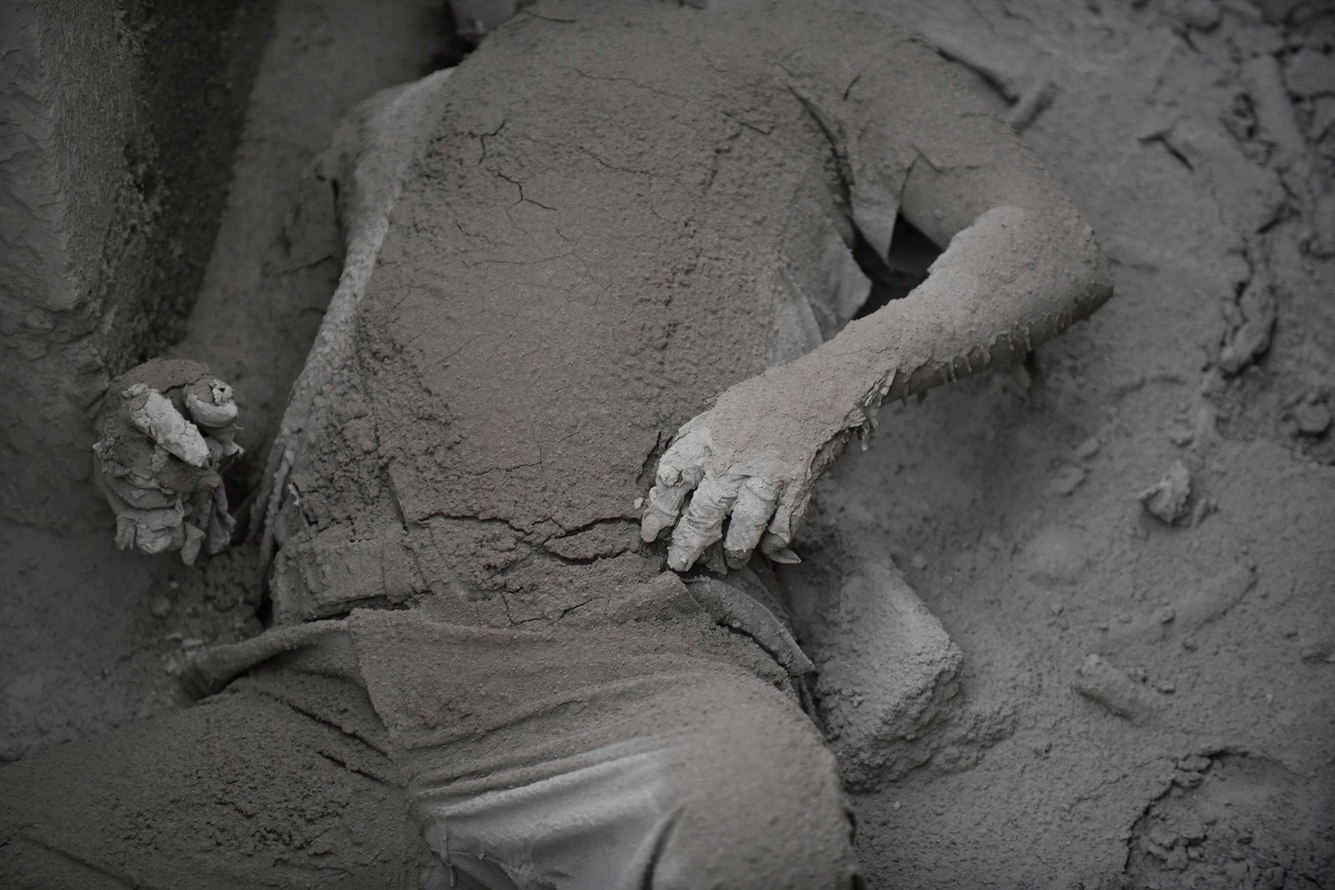Korban: (0, 0, 1116, 890)
